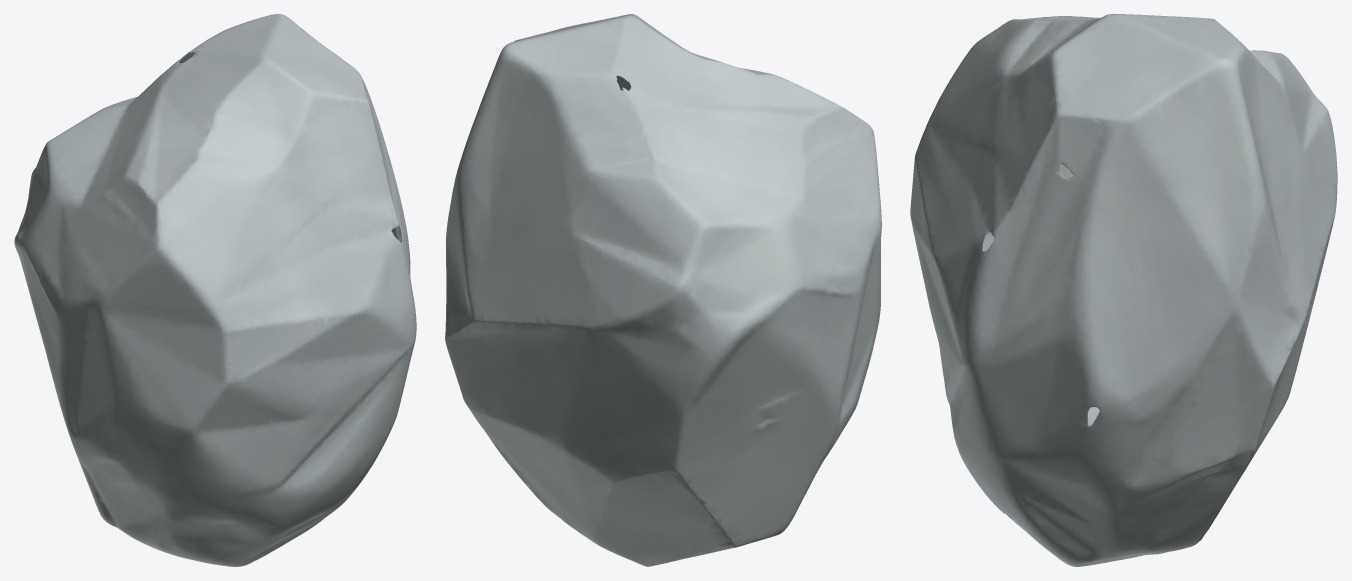
The model's file is An ice projectile.glb.
The picture shows the model from 3 angles, left to right: view 1: azimuth 30°, elevation 25°; view 2: azimuth 150°, elevation 25°; view 3: azimuth 270°, elevation 25°; orthographic projection. The views are drawn at different scales.
Visible parts, largest first — view 1: world; view 2: world; view 3: world.
Part boxes in pixels (x1=…): world: x1=14, y1=14, x2=416, y2=566; world: x1=445, y1=14, x2=881, y2=566; world: x1=910, y1=14, x2=1337, y2=566.
Size of the model in its own units: 0.7413 by 1 by 0.6883.
1 material, 1 textured.
